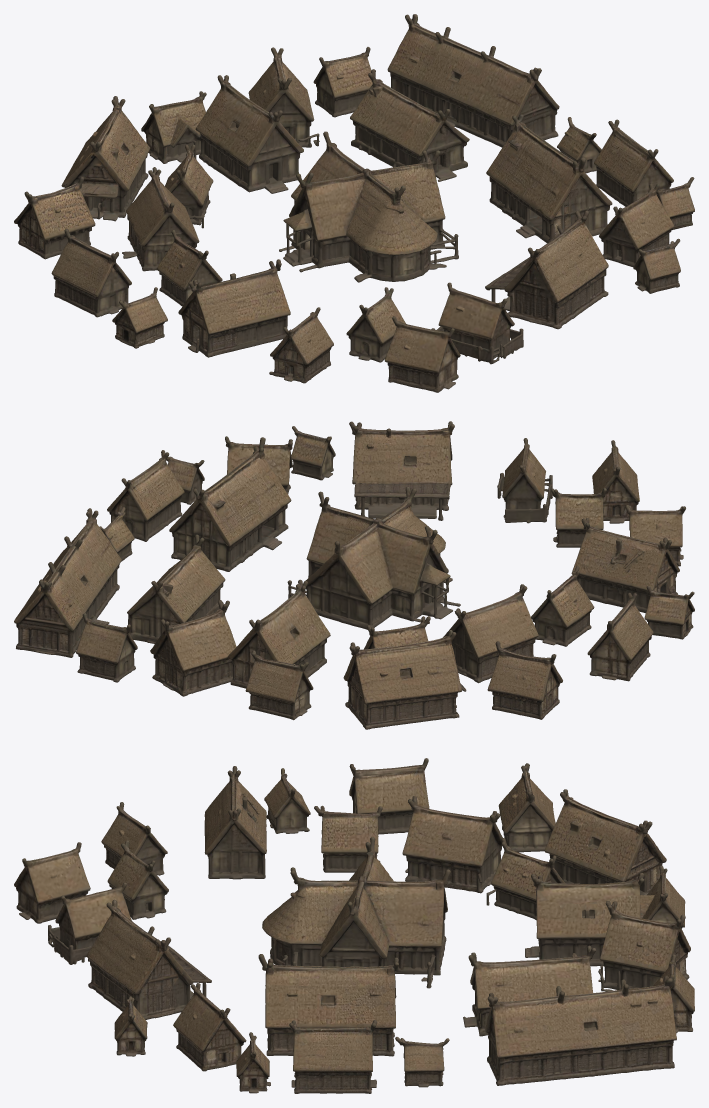
The model's file is Ancient Town (Western).fbx.
The picture shows the model from 3 angles, top to bottom: view 1: azimuth 30°, elevation 25°; view 2: azimuth 150°, elevation 25°; view 3: azimuth 270°, elevation 25°; orthographic projection. The views are drawn at different scales.
Parts seen in each view (by area): view 1: tripo_node_d661d6e7; view 2: tripo_node_d661d6e7; view 3: tripo_node_d661d6e7.
Boxes of the visible parts, left/top/right/bottom form: tripo_node_d661d6e7: left=14, top=14, right=694, bottom=392; tripo_node_d661d6e7: left=14, top=421, right=694, bottom=729; tripo_node_d661d6e7: left=14, top=758, right=694, bottom=1093.
Size of the model in its own units: 0.9857 by 0.145 by 1.
